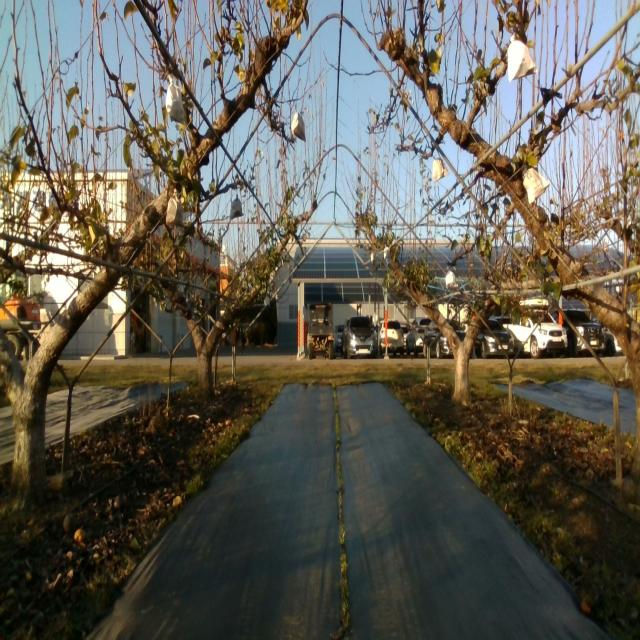pearbags: (508, 34, 538, 83), (523, 167, 551, 205), (165, 72, 184, 124), (165, 186, 184, 226), (290, 110, 306, 142), (432, 156, 449, 183), (229, 195, 244, 221), (445, 265, 456, 289)
